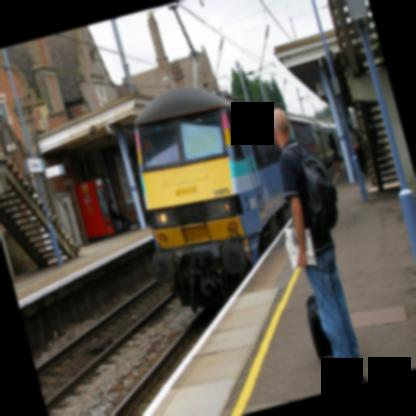backpack: (284, 144, 339, 235)
suitcase: (306, 295, 334, 357)
